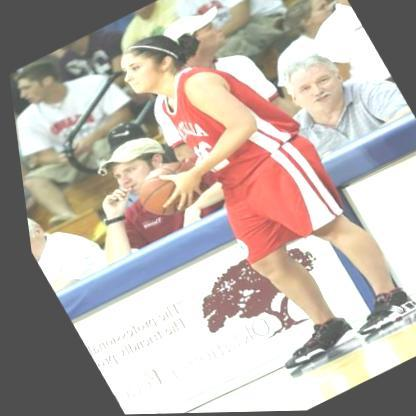basketball: (119, 150, 211, 225)
